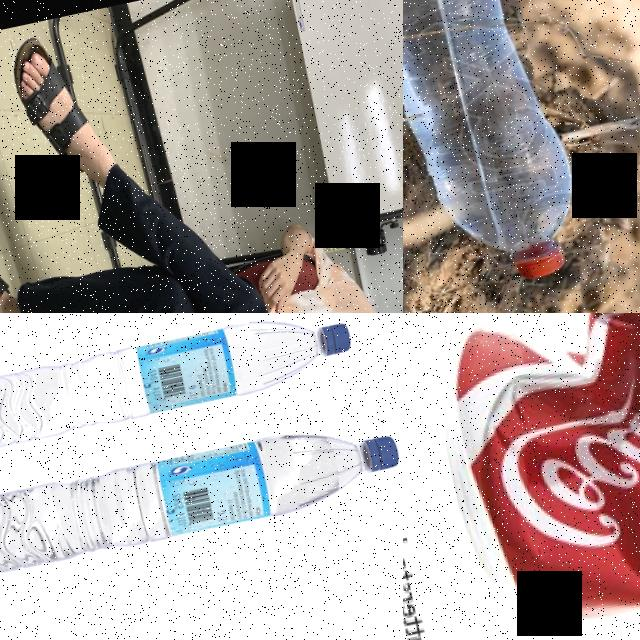bottle: (0, 408, 403, 607), (0, 313, 368, 475), (403, 0, 591, 304)
